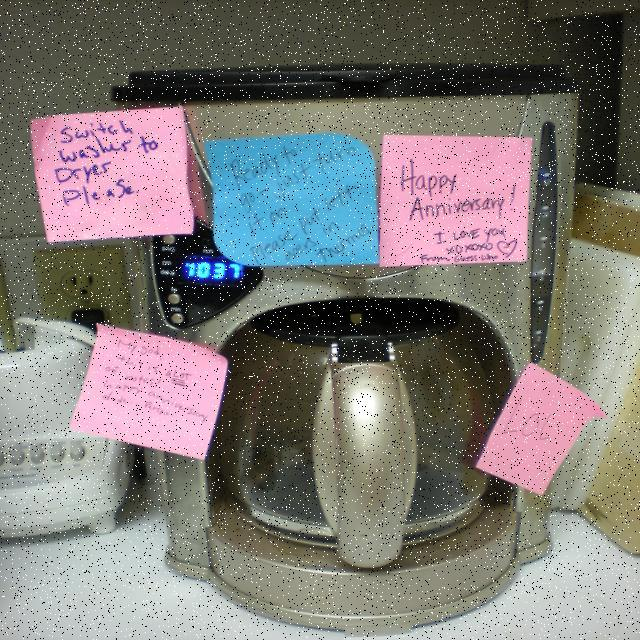Coffee-Machine: (125, 38, 580, 630)
